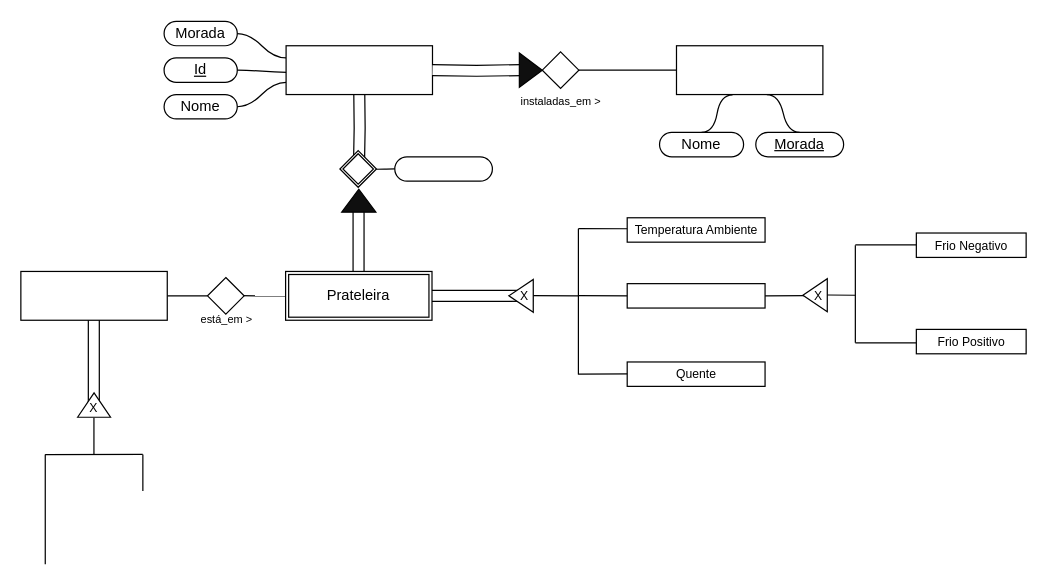
The diagram is 1048 pixels wide and 587 high, and some of its shapes have lost their labels. The box of each missing label's shape, as (x1, y1, x2, y2) in pixels:
Frio: (626, 282, 765, 308)
IVM: (285, 45, 432, 95)
Planograma: (394, 156, 492, 181)
Ponto de Retalho: (675, 45, 823, 95)
Produto: (20, 270, 167, 320)
